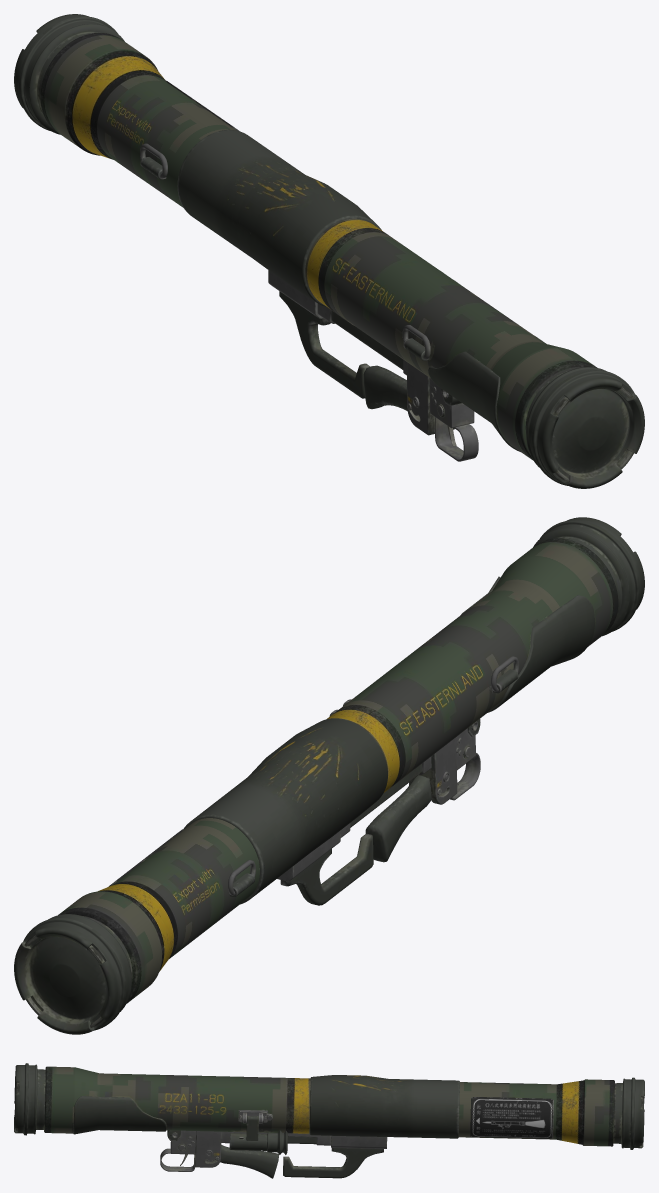
The model's file is dzj08.glb.
The picture shows the model from 3 angles, top to bottom: view 1: azimuth 30°, elevation 25°; view 2: azimuth 150°, elevation 25°; view 3: azimuth 270°, elevation 25°; orthographic projection. The views are drawn at different scales.
Visible parts, largest first — view 1: Object_7; view 2: Object_7; view 3: Object_7.
Part boxes in pixels (left/top/right/bottom): Object_7: left=14, top=14, right=644, bottom=488; Object_7: left=14, top=517, right=644, bottom=1034; Object_7: left=14, top=1063, right=644, bottom=1178.
Bounding box in the file's own units: 0.1321 × 0.199 × 1.02.
Materials: 1 (1 with a texture image).
